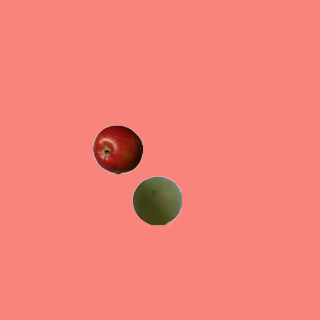Apple Braeburn: (92, 124, 142, 174)
Grape White 4: (131, 175, 181, 225)
